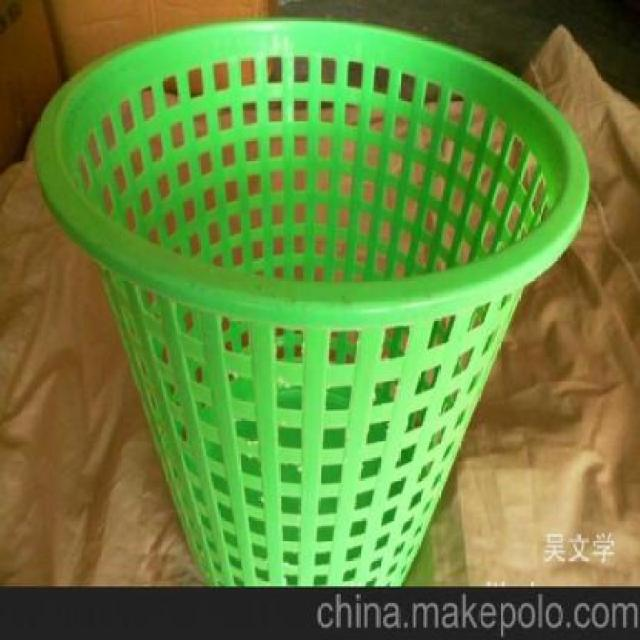dustbin: (29, 8, 595, 587)
